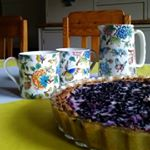cups: (3, 49, 61, 100), (52, 45, 99, 87)
